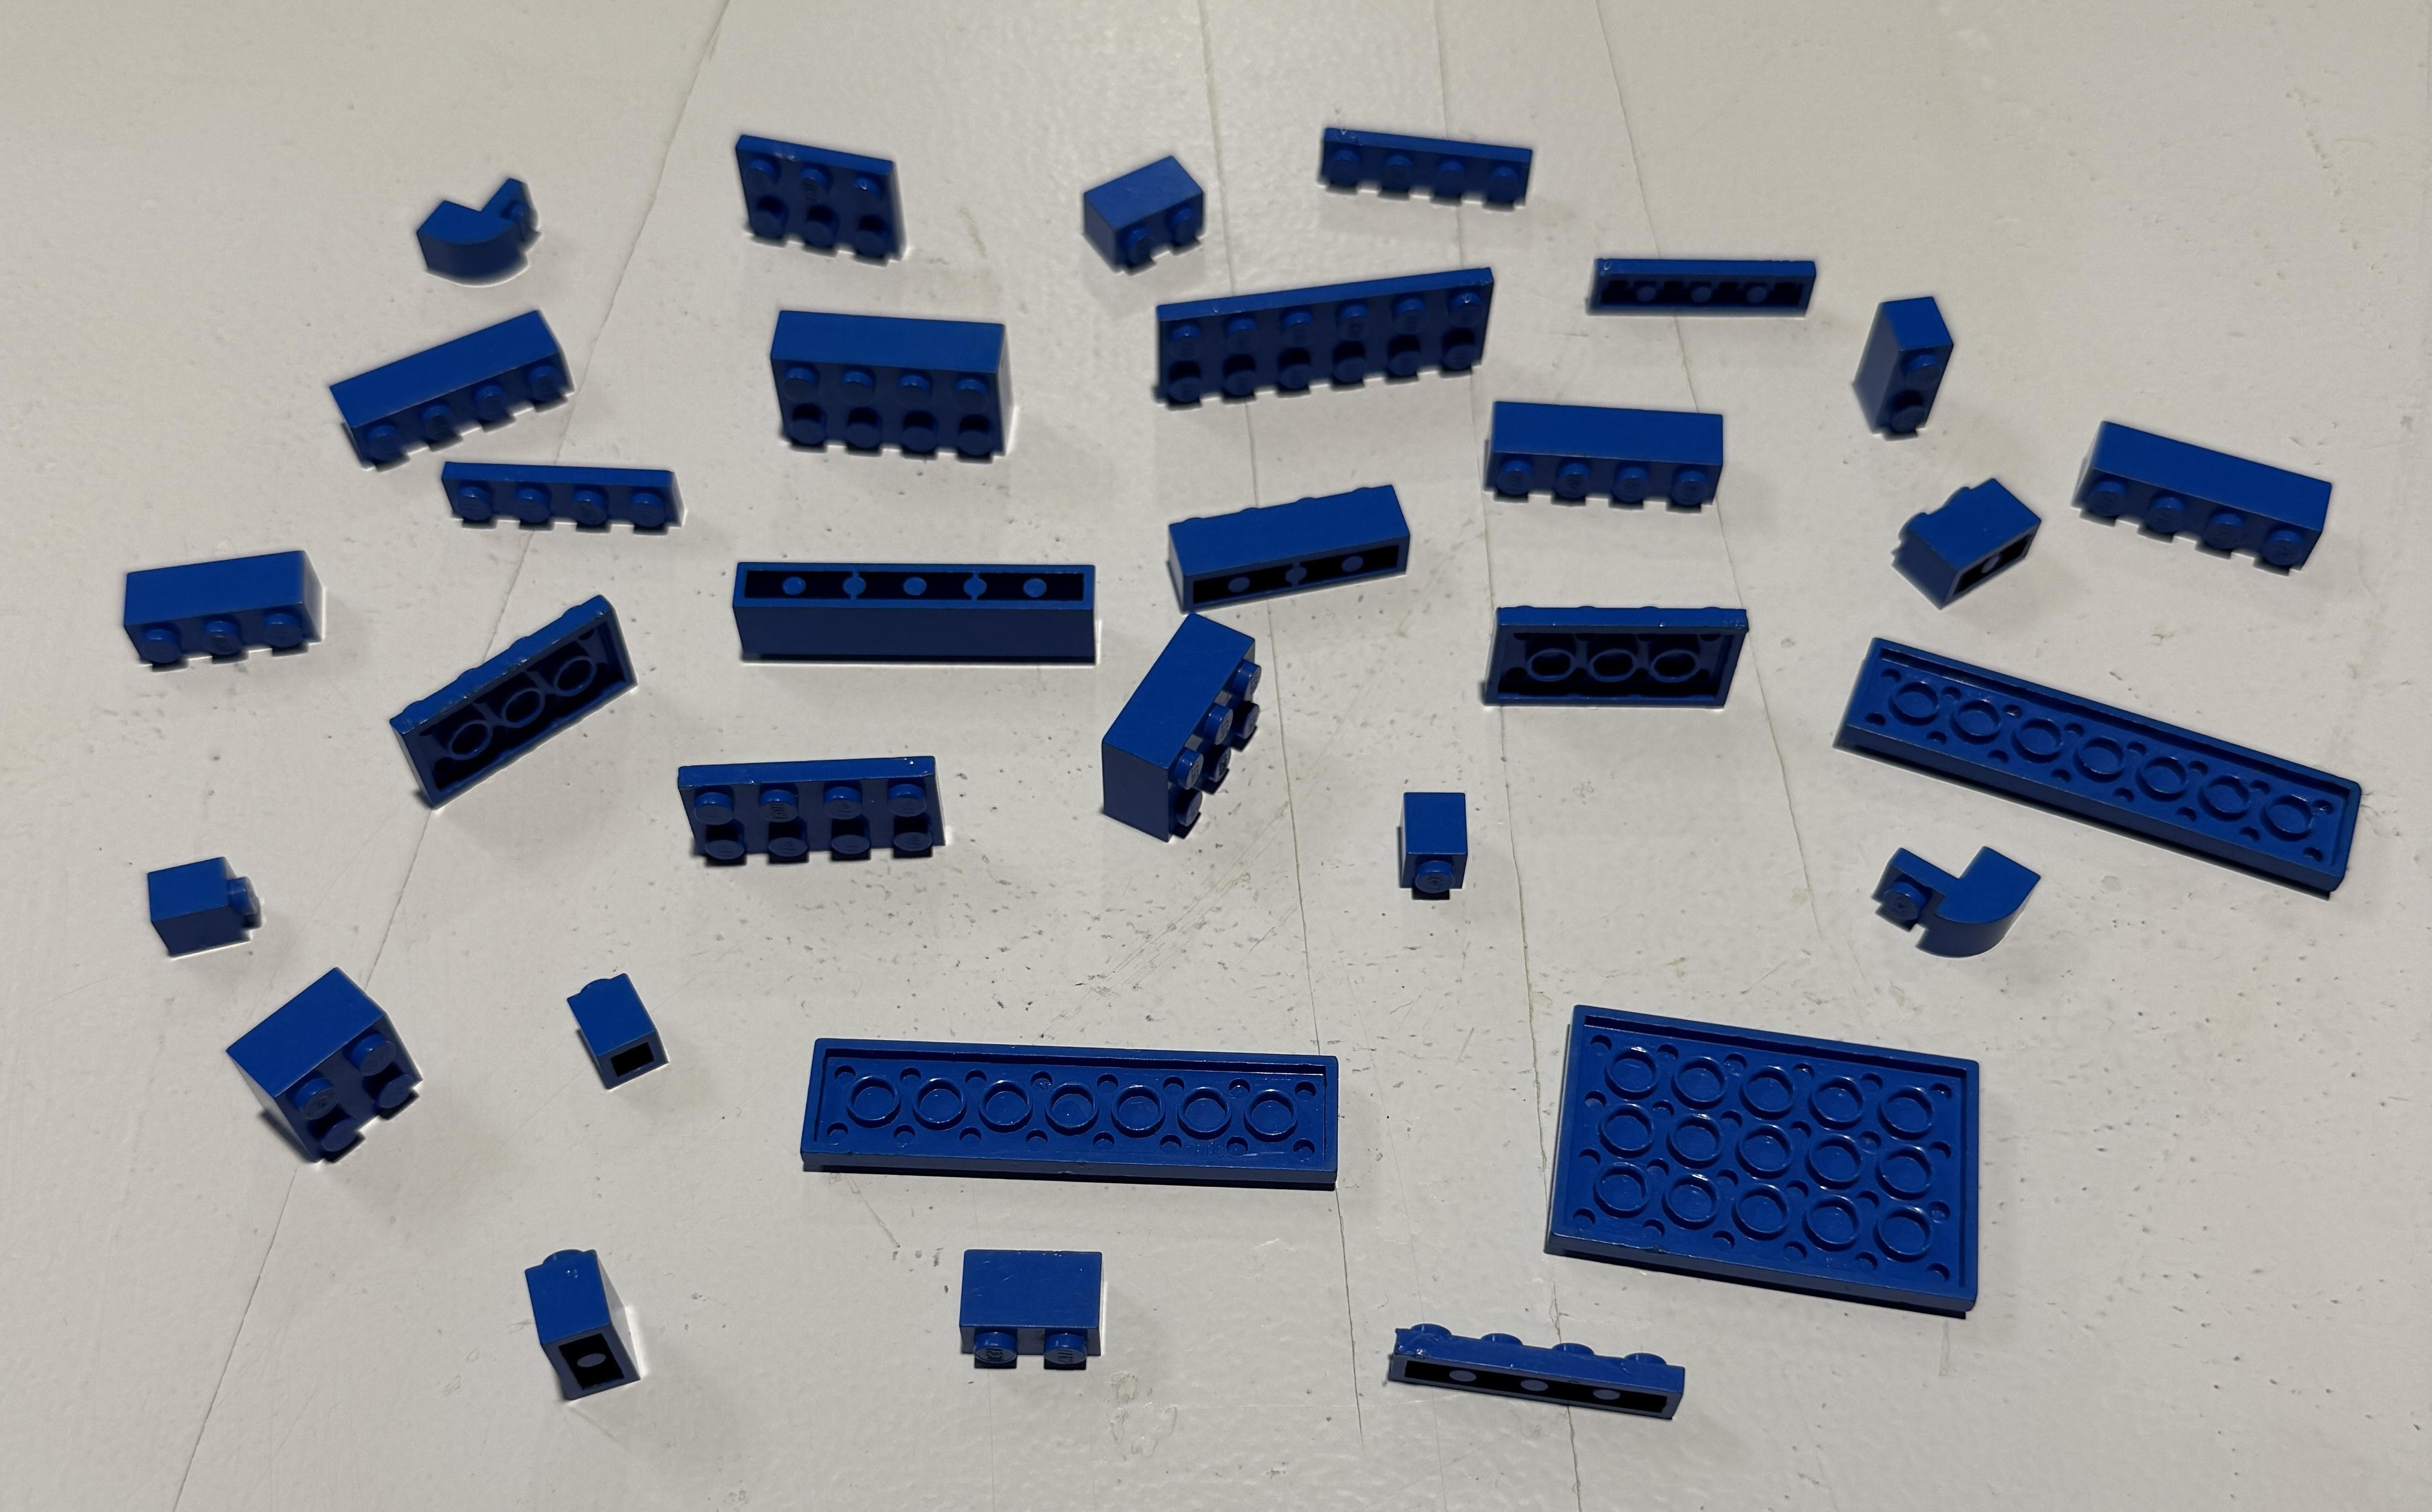brick_1x1: (122, 838, 286, 982), (554, 955, 684, 1096), (1379, 775, 1497, 916)
brick_1x2: (460, 1207, 717, 1432), (931, 1226, 1147, 1406), (1034, 131, 1253, 300), (1856, 460, 2070, 620), (1844, 226, 1964, 486)
brick_1x3: (101, 523, 364, 700)
brick_1x4: (301, 298, 602, 493), (2051, 397, 2361, 585), (1469, 378, 1736, 528)
brick_2x2: (209, 948, 461, 1193)
brick_2x3: (1090, 604, 1278, 843)
brick_2x4: (759, 294, 1032, 486)
